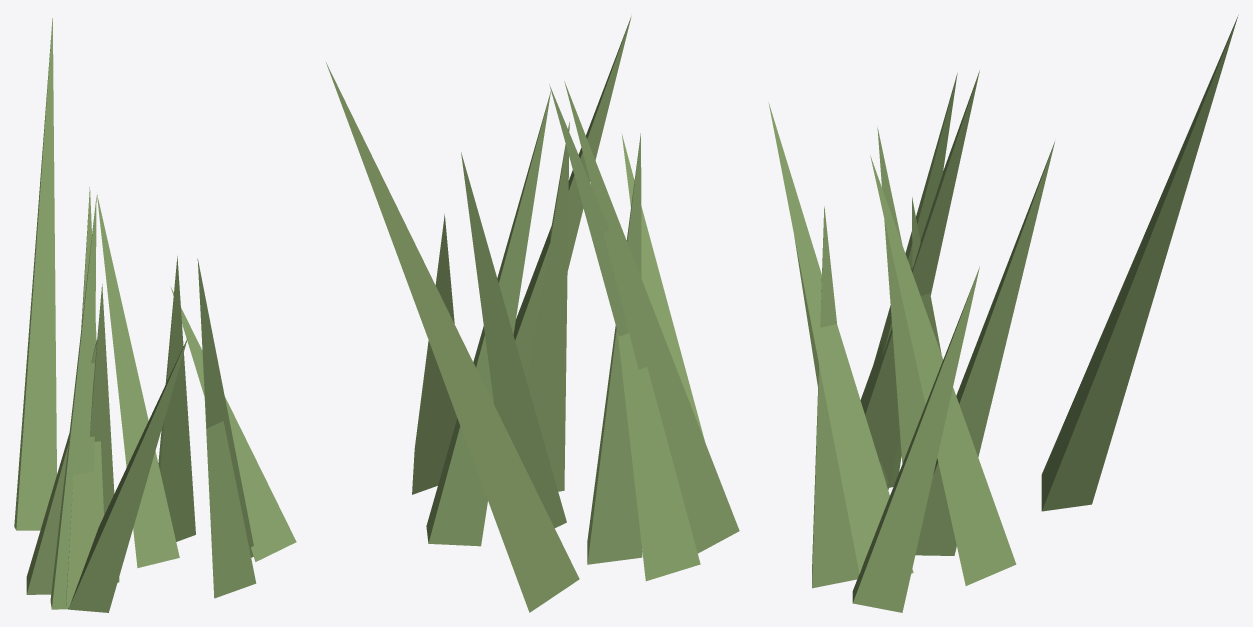
File: grass_tuft.glb
3 renders of one model, left to right at view 1: azimuth 30°, elevation 25°; view 2: azimuth 150°, elevation 25°; view 3: azimuth 270°, elevation 25°, orthographic. The views are drawn at different scales.
Visible parts, largest first — view 1: Grass_Tuft; view 2: Grass_Tuft; view 3: Grass_Tuft.
Boxes of the visible parts, <box> form: Grass_Tuft: <box>14,18,296,612</box>; Grass_Tuft: <box>325,16,739,612</box>; Grass_Tuft: <box>768,15,1238,612</box>.
Size of the model in its own units: 0.3036 by 0.5337 by 0.4048.
